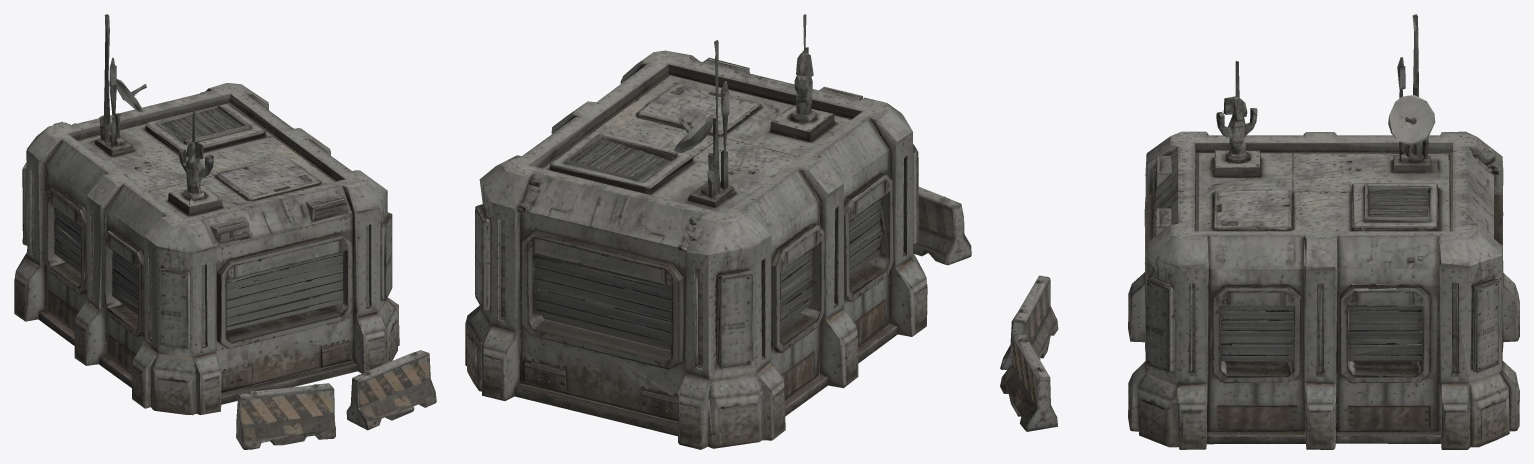
Rendered from struct.barracks.glb.
3 renders of one model, left to right at view 1: azimuth 30°, elevation 25°; view 2: azimuth 150°, elevation 25°; view 3: azimuth 270°, elevation 25°, orthographic. The views are drawn at different scales.
Parts seen in each view (by area): view 1: body; view 2: body; view 3: body.
Part boxes in pixels (left/top/right/bottom): body: left=14, top=14, right=436, bottom=449; body: left=465, top=14, right=971, bottom=449; body: left=1000, top=14, right=1519, bottom=449.
Bounding box in the file's own units: 1.02 × 1.14 × 1.6.
1 material, 1 textured.
